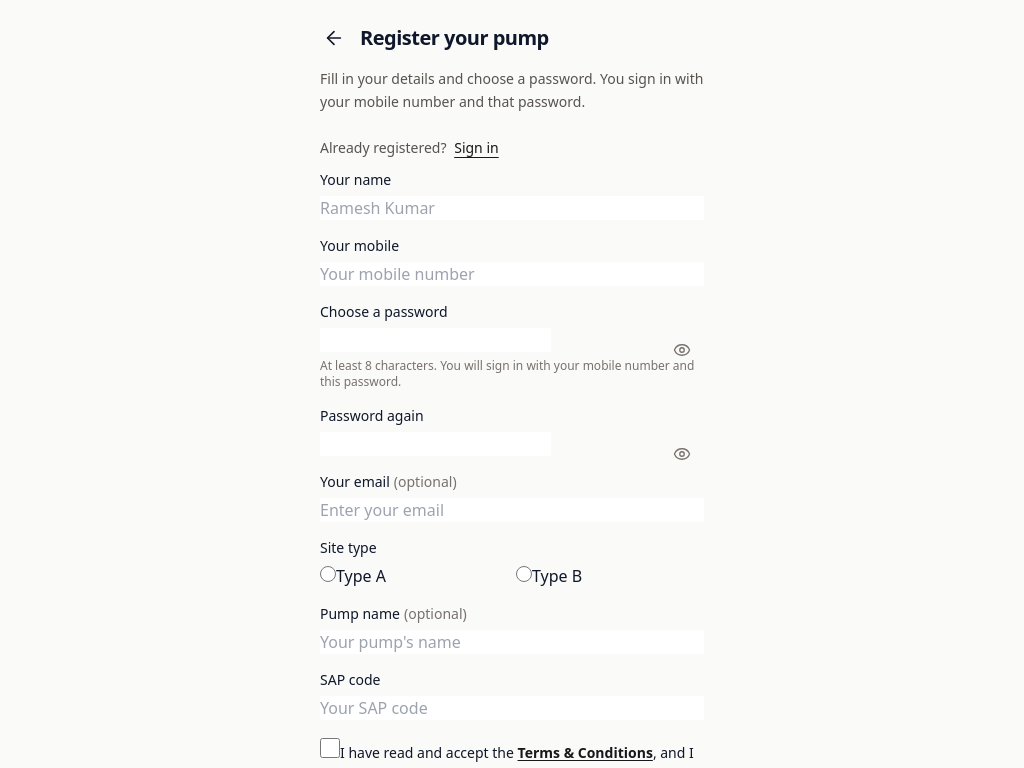
RegisterPage › opens the terms in the app; the link does not tick the box, agreeing does
Click the button "Terms & Conditions". click: click(585, 753)
box: top-left (518, 742), bottom-right (653, 764)
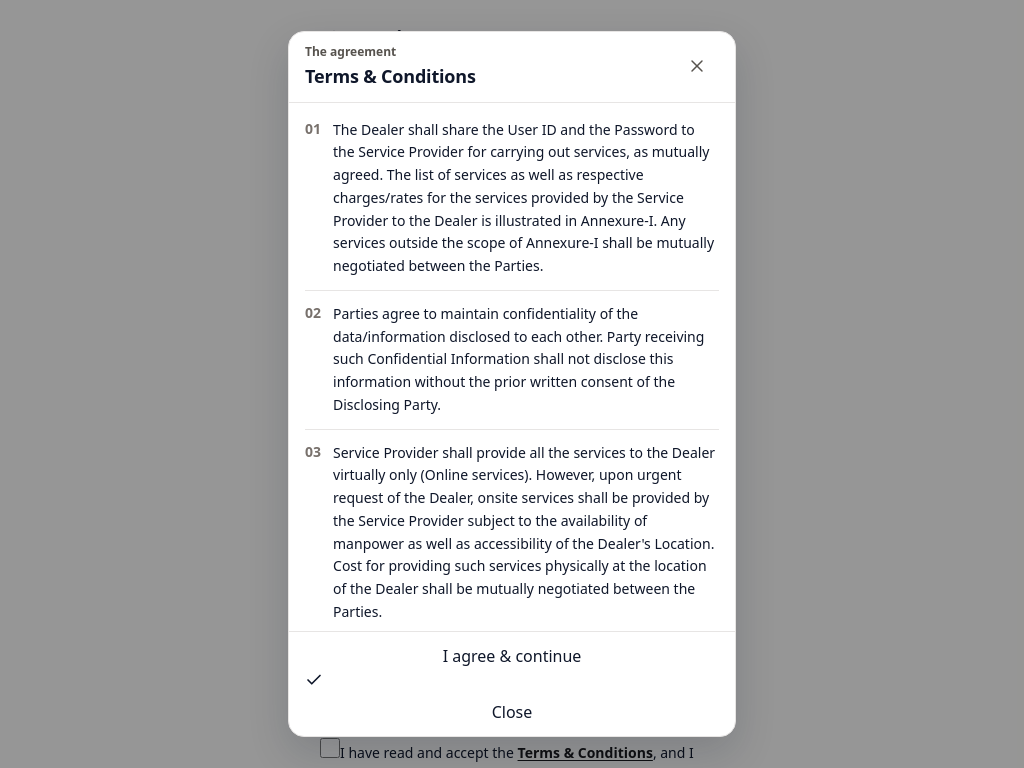
Expected: the checkbox is not checked, top-left (320, 738), bottom-right (340, 758)
Click the button "I agree & continue". click: click(512, 668)
box: top-left (305, 644), bottom-right (719, 692)
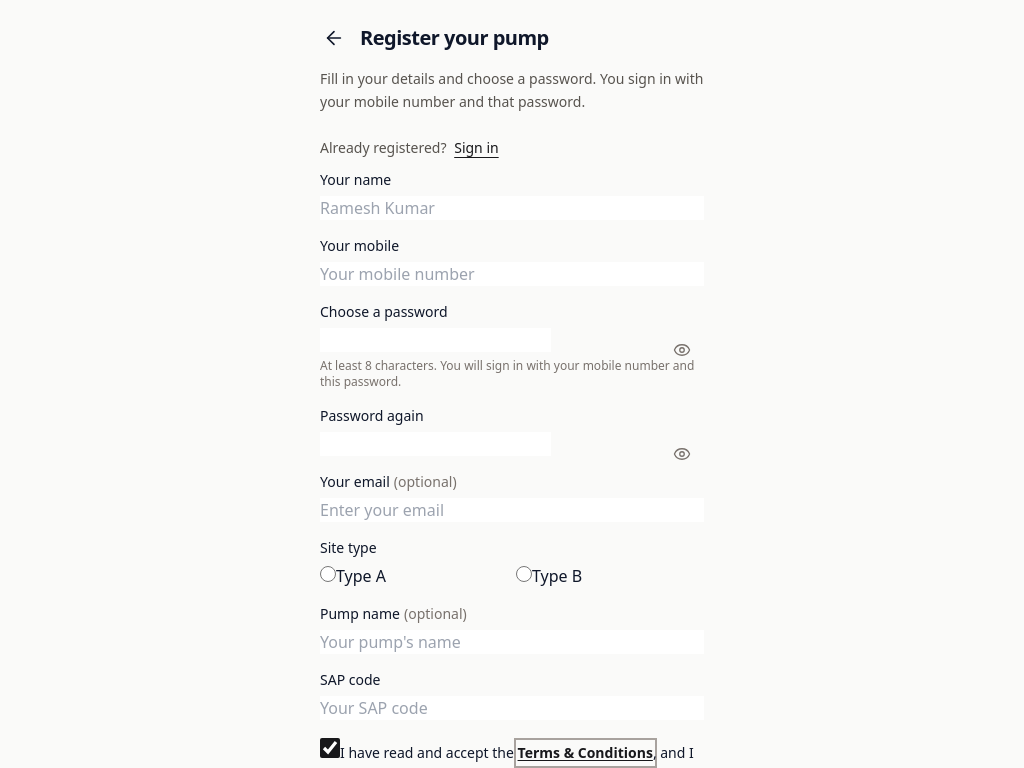
Result: the dialog is gone
Result: the checkbox is checked at top-left (320, 738), bottom-right (340, 758)
